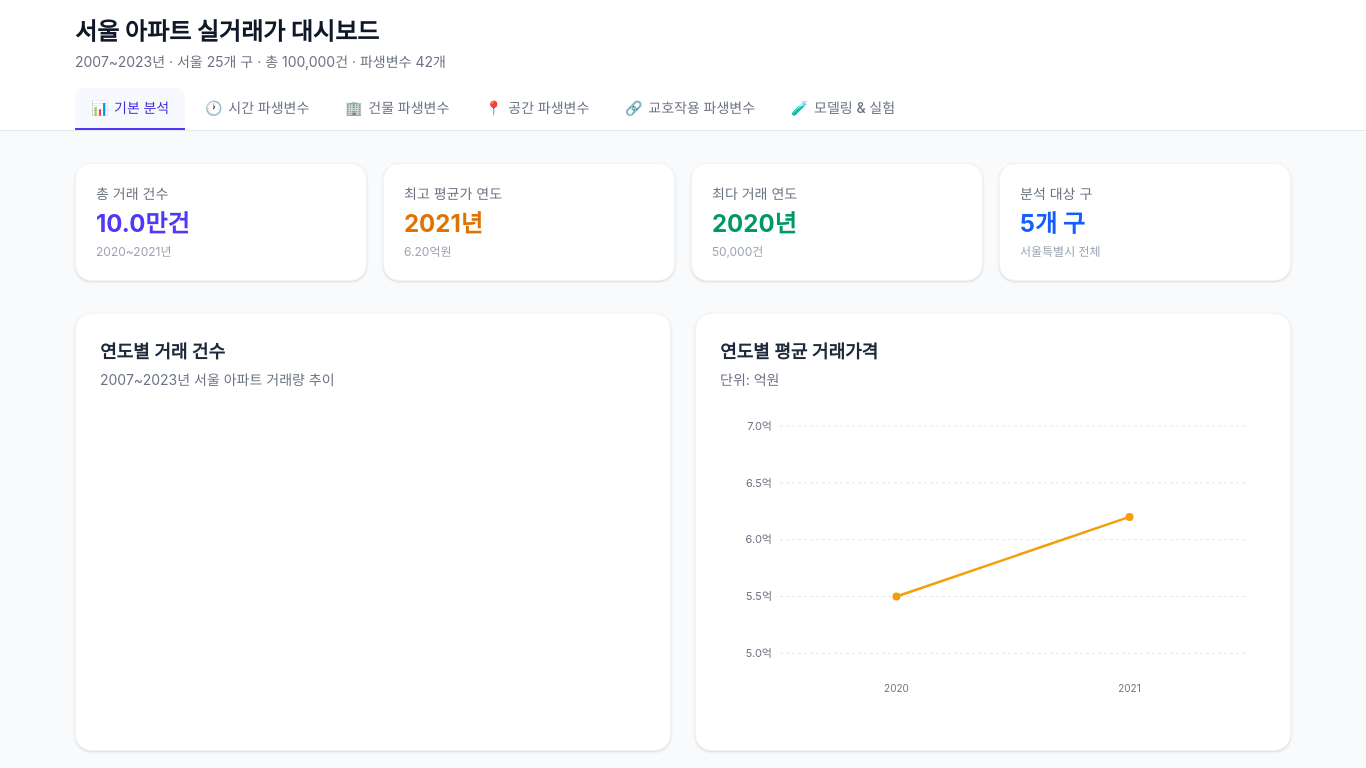
탭 네비게이션 (zustand) › 공간 파생변수 버튼 클릭 시 공간 페이지가 표시된다
Click the button "📍 공간 파생변수". click: (537, 109)
box: [469,88,605,130]
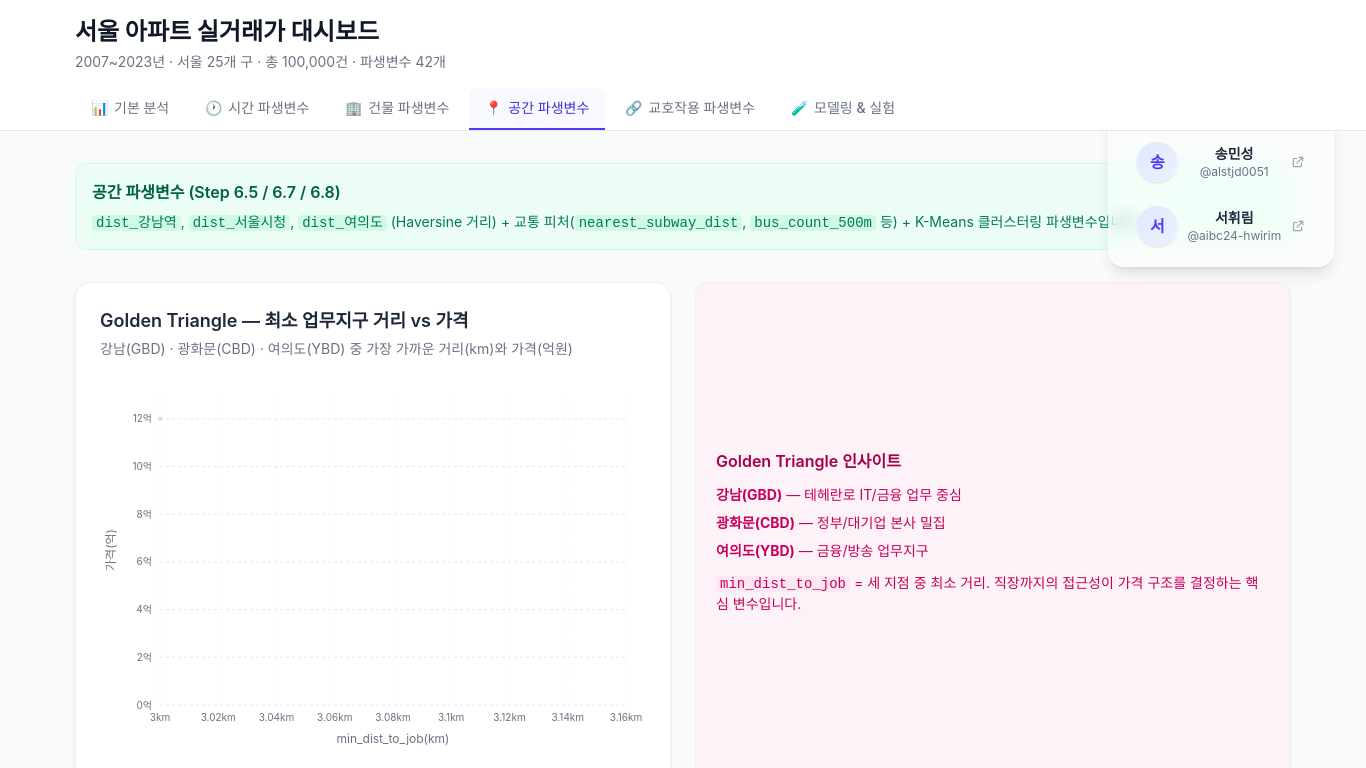
Expected: the heading "공간 파생변수 (Step 6.5 / 6.7 / 6.8)" is shown, [92,182,341,202]
